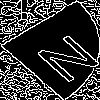N: (25, 25, 100, 85)
